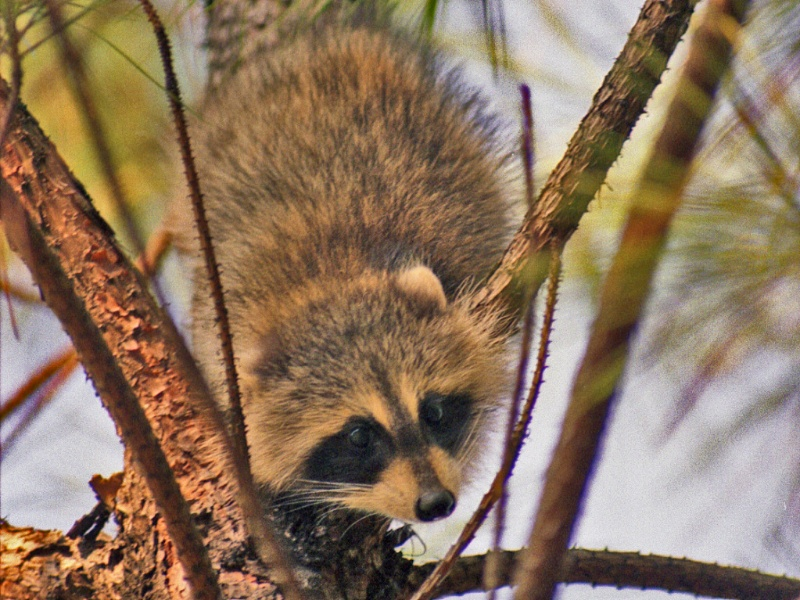raccoon: (156, 34, 505, 535)
